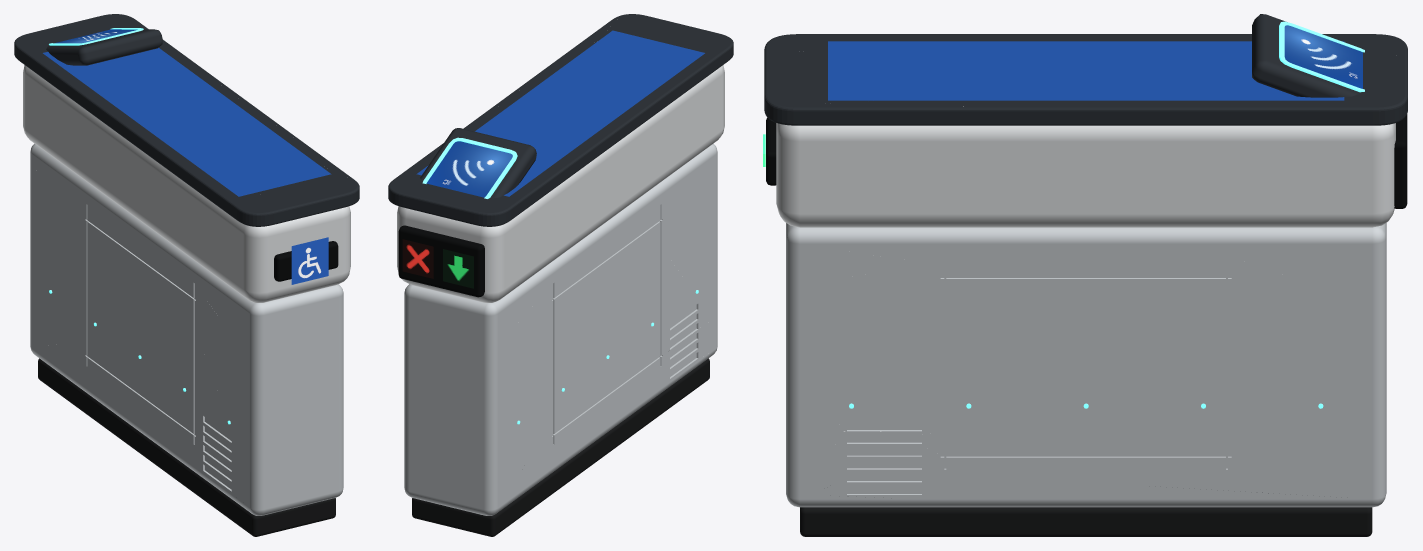
The model's file is gate_unit_wide.glb.
3 renders of one model, left to right at view 1: azimuth 30°, elevation 25°; view 2: azimuth 150°, elevation 25°; view 3: azimuth 270°, elevation 25°, orthographic. The views are drawn at different scales.
Visible parts, largest first — view 1: Body, Housing, GateParts_GateBlue, TopSlab, GateParts_Rubber, GateParts_GateTop, WheelchairSign, GateParts_Black, ICPad; view 2: Body, Housing, TopSlab, GateParts_GateBlue, GateParts_Rubber, ICPad, GateParts_Black, GateParts_GateTop, DisplayStop, DisplayGo, GateParts_LedCyan; view 3: Body, Housing, TopSlab, GateParts_GateBlue, GateParts_Rubber, GateParts_GateTop, ICPad, GateParts_Black, GateParts_LedCyan.
Part boxes in pixels (box(x1,y1,x2,y2)): Body: box(30, 143, 343, 515); Housing: box(23, 65, 350, 302); GateParts_GateBlue: box(43, 47, 331, 196); TopSlab: box(14, 14, 359, 226); GateParts_Rubber: box(38, 358, 335, 536); GateParts_GateTop: box(46, 29, 162, 65); WheelchairSign: box(291, 237, 328, 284); GateParts_Black: box(274, 241, 338, 281); ICPad: box(55, 29, 137, 43); Body: box(404, 143, 717, 515); Housing: box(397, 65, 724, 302); TopSlab: box(388, 14, 733, 226); GateParts_GateBlue: box(416, 30, 704, 196); GateParts_Rubber: box(412, 358, 709, 536); ICPad: box(426, 141, 512, 197); GateParts_Black: box(398, 225, 484, 297); GateParts_GateTop: box(420, 128, 536, 198); DisplayStop: box(402, 239, 433, 278); DisplayGo: box(443, 249, 473, 288); GateParts_LedCyan: box(422, 137, 698, 424); Body: box(786, 223, 1386, 507); Housing: box(776, 106, 1395, 227); TopSlab: box(764, 34, 1407, 125); GateParts_GateBlue: box(828, 41, 1344, 100); GateParts_Rubber: box(800, 492, 1372, 536); GateParts_GateTop: box(1252, 14, 1358, 97); ICPad: box(1284, 25, 1362, 88); GateParts_Black: box(766, 114, 1407, 208); GateParts_LedCyan: box(849, 21, 1364, 408).
Size of the model in its own units: 0.3821 by 1.12 by 1.38.
Materials: 13 (4 with a texture image).
